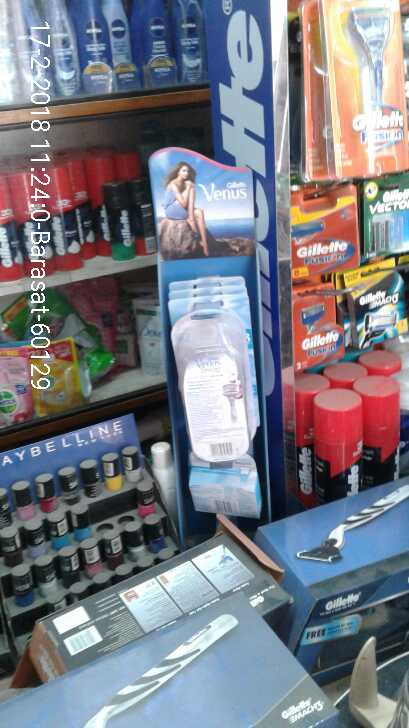gillette: (303, 1, 408, 181), (295, 184, 360, 284), (344, 281, 409, 345), (356, 179, 409, 253), (291, 286, 337, 358)
